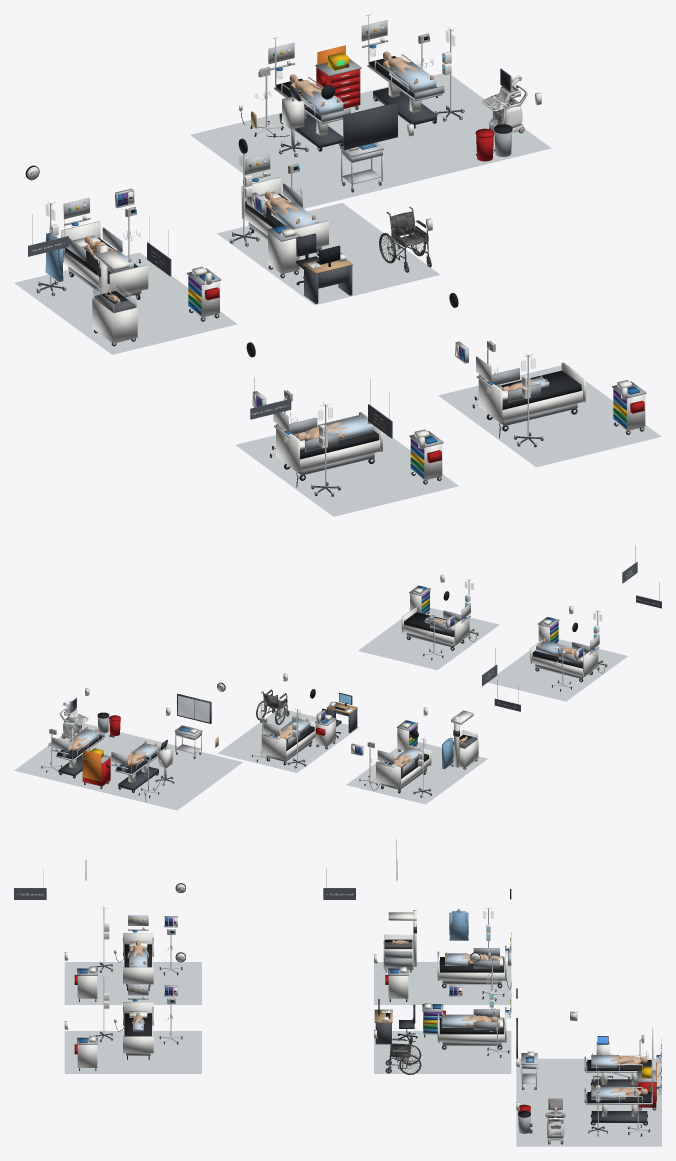
The model's file is 13_n1_urgencias.glb.
3 views of the same model, one above another, from view 1: azimuth 30°, elevation 25°; view 2: azimuth 150°, elevation 25°; view 3: azimuth 270°, elevation 25° (orthographic). The views are drawn at different scales.
Visible parts, largest first — view 1: piso · Atención al politraumatizado y recepción de ambulanci, piso · Urgencias ginecológicas, piso · Urgencias pediátricas, piso · Urgencias adultos, piso · Sala de urgencias · Triage, cama_urgencias.001 (×2), carro_curacion (×4), cama_urgencias.002, cama_urgencias, cuna_radiante, camilla_trauma.001, carro_rojo (+8 smaller); view 2: piso · Atención al politraumatizado y recepción de ambulanci, piso · Urgencias pediátricas, piso · Urgencias adultos, cama_urgencias.001 (×2), piso · Urgencias ginecológicas, piso · Sala de urgencias · Triage, carro_curacion (×4), cama_urgencias.002, cama_urgencias, cuna_radiante, carro_rojo, camilla_trauma.002 (+6 smaller); view 3: piso · Atención al politraumatizado y recepción de ambulanci, piso · Urgencias pediátricas, piso · Sala de urgencias · Triage, piso · Urgencias adultos, piso · Urgencias ginecológicas, cama_urgencias.001 (×2), carro_curacion (×4), cama_urgencias, cama_urgencias.002, cuna_radiante, camilla_trauma.001, camilla_trauma.002 (+5 smaller).
Part boxes in pixels (<box>): piso · Atención al politraumatizado y recepción de ambulanci: <box>190,73,551,208</box>; piso · Urgencias ginecológicas: <box>14,252,237,354</box>; piso · Urgencias pediátricas: <box>438,365,661,467</box>; piso · Urgencias adultos: <box>236,415,458,516</box>; piso · Sala de urgencias · Triage: <box>217,203,440,305</box>; cama_urgencias.001 (×2): <box>241,177,382,480</box>; carro_curacion (×4): <box>187,225,646,484</box>; cama_urgencias.002: <box>478,362,585,431</box>; cama_urgencias: <box>61,221,148,299</box>; cuna_radiante: <box>92,244,137,346</box>; camilla_trauma.001: <box>366,14,444,128</box>; carro_rojo: <box>315,45,361,109</box>; piso · Atención al politraumatizado y recepción de ambulanci: <box>14,723,242,810</box>; piso · Urgencias pediátricas: <box>358,607,499,670</box>; piso · Urgencias adultos: <box>488,639,627,701</box>; cama_urgencias.001 (×2): <box>261,639,598,765</box>; piso · Urgencias ginecológicas: <box>346,742,487,804</box>; piso · Sala de urgencias · Triage: <box>218,708,358,772</box>; carro_curacion (×4): <box>315,585,559,751</box>; cama_urgencias.002: <box>401,607,469,650</box>; cama_urgencias: <box>376,744,431,793</box>; cuna_radiante: <box>451,710,478,769</box>; carro_rojo: <box>81,748,111,788</box>; camilla_trauma.002: <box>115,742,160,792</box>; piso · Atención al politraumatizado y recepción de ambulanci: <box>516,1058,661,1146</box>; piso · Urgencias pediátricas: <box>64,1031,201,1073</box>; piso · Sala de urgencias · Triage: <box>374,1031,511,1073</box>; piso · Urgencias adultos: <box>64,962,201,1004</box>; piso · Urgencias ginecológicas: <box>374,962,511,1004</box>; cama_urgencias.001 (×2): <box>123,933,506,1049</box>; carro_curacion (×4): <box>74,966,445,1070</box>; cama_urgencias: <box>437,945,506,988</box>; cama_urgencias.002: <box>123,1002,153,1059</box>; cuna_radiante: <box>383,910,416,972</box>; camilla_trauma.001: <box>584,1059,653,1125</box>; camilla_trauma.002: <box>584,1027,653,1091</box>.
Size of the model in its own units: 15.02 by 3.49 by 19.8.
45 materials, 9 textured.
